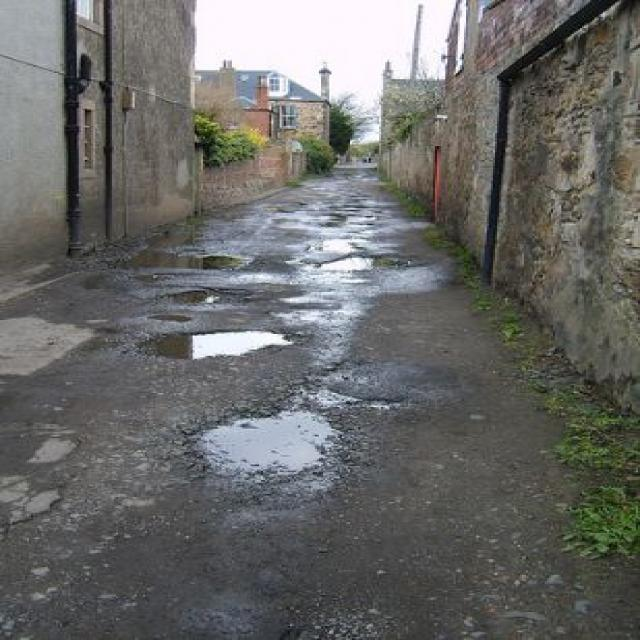pothole: (178, 394, 344, 484), (134, 322, 294, 357)
